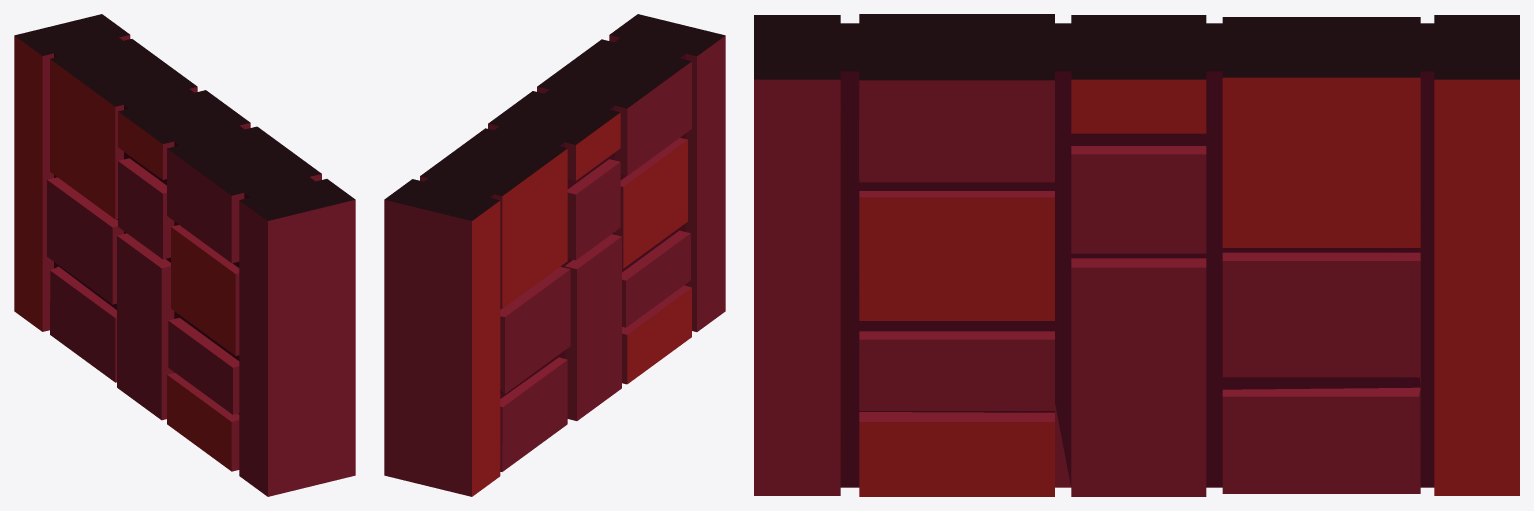
File: LabrinthWallA.fbx
3 renders of one model, left to right at view 1: azimuth 30°, elevation 25°; view 2: azimuth 150°, elevation 25°; view 3: azimuth 270°, elevation 25°, orthographic. The views are drawn at different scales.
Parts seen in each view (by area): view 1: Wall.001; view 2: Wall.001; view 3: Wall.001.
Boxes of the visible parts, x1,y1,x2,y2 form: Wall.001: (14,14,355,496); Wall.001: (384,14,725,496); Wall.001: (754,14,1519,496).
Bounding box in the file's own units: 103 × 300 × 500.
